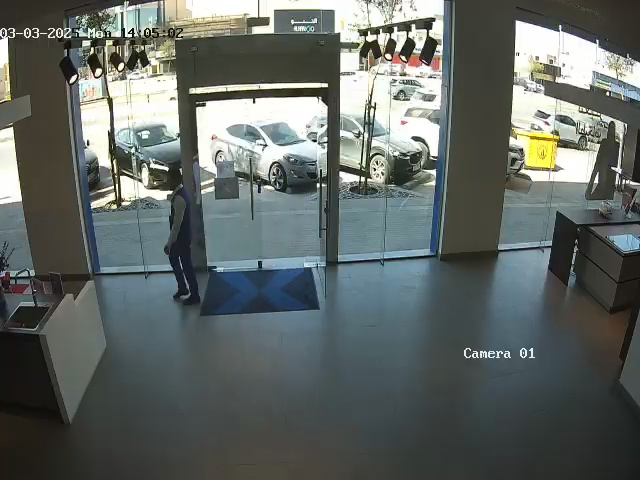employee: (163, 166, 201, 306)
